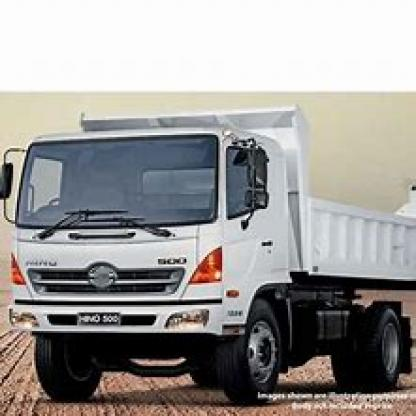dump_truck: (4, 104, 414, 382)
